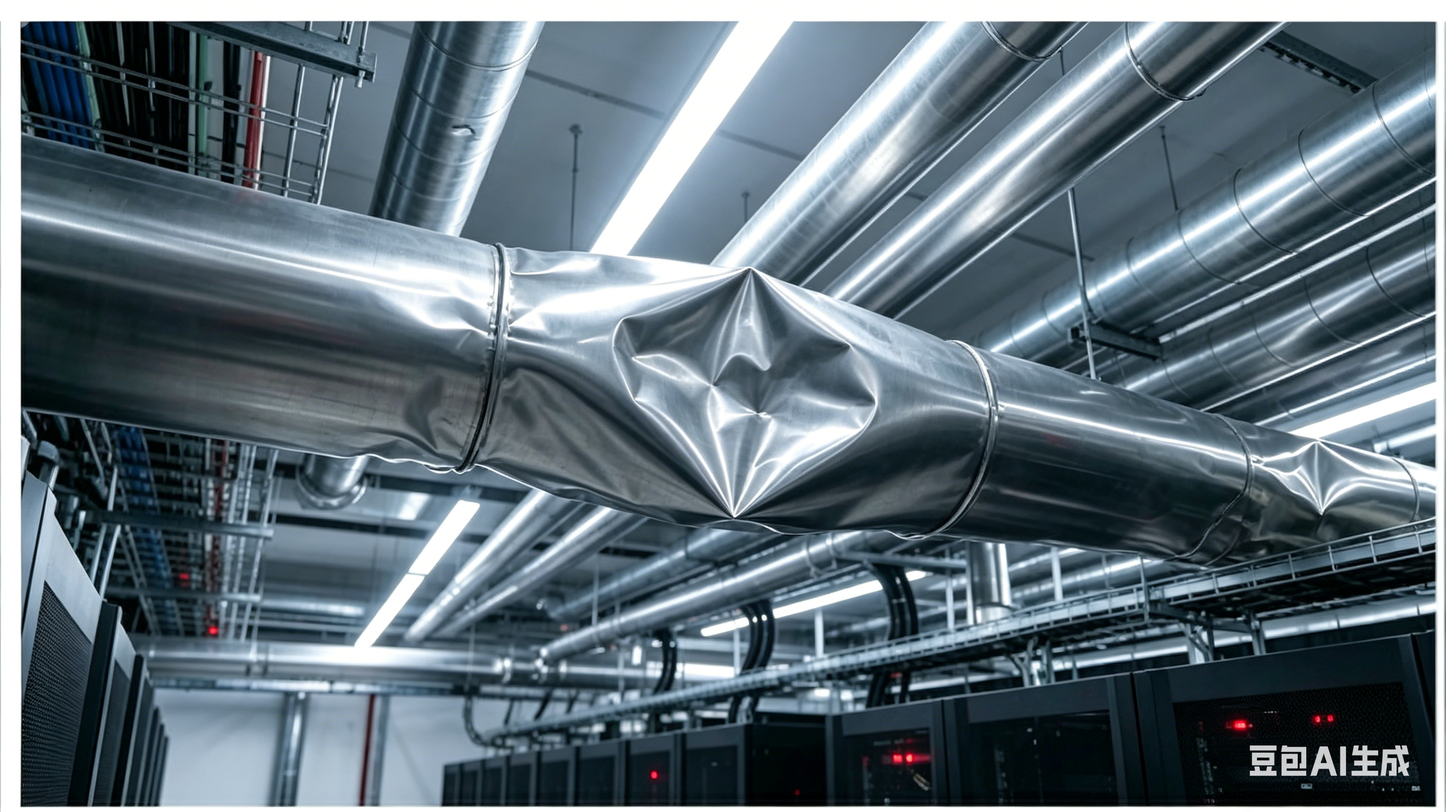Leakage: (612, 261, 885, 514), (1259, 435, 1395, 528), (496, 238, 598, 301)
